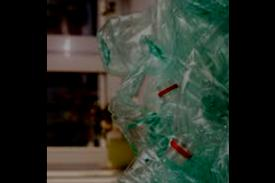Plastic: (96, 0, 229, 182)
